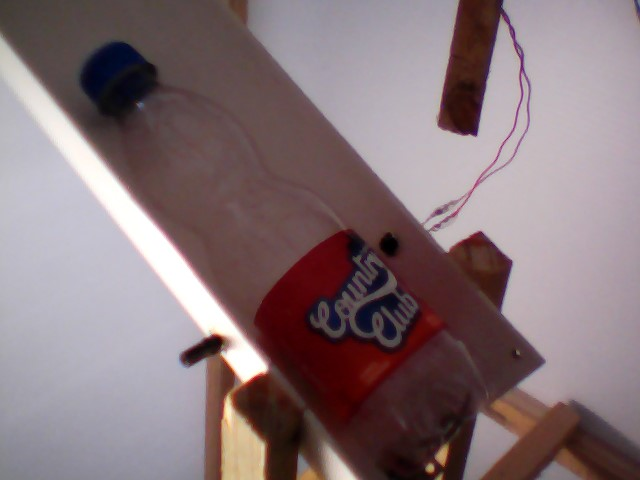plastico: (73, 33, 500, 475)
